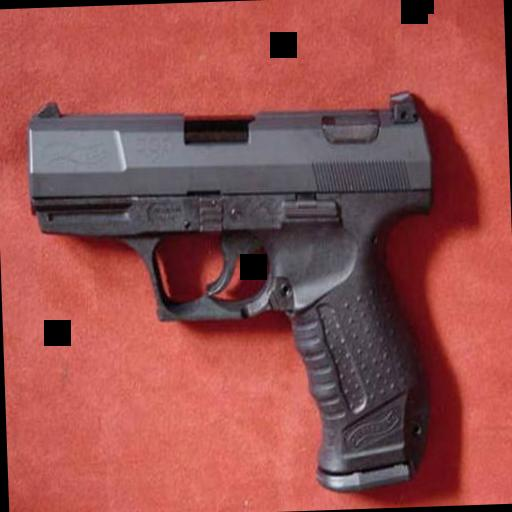Handgun: (22, 80, 442, 497)
